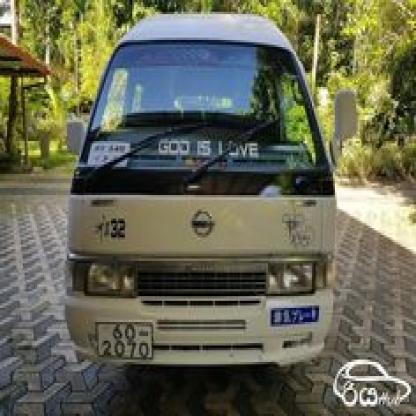number plate: (94, 318, 154, 361)
van front: (55, 6, 358, 376)
